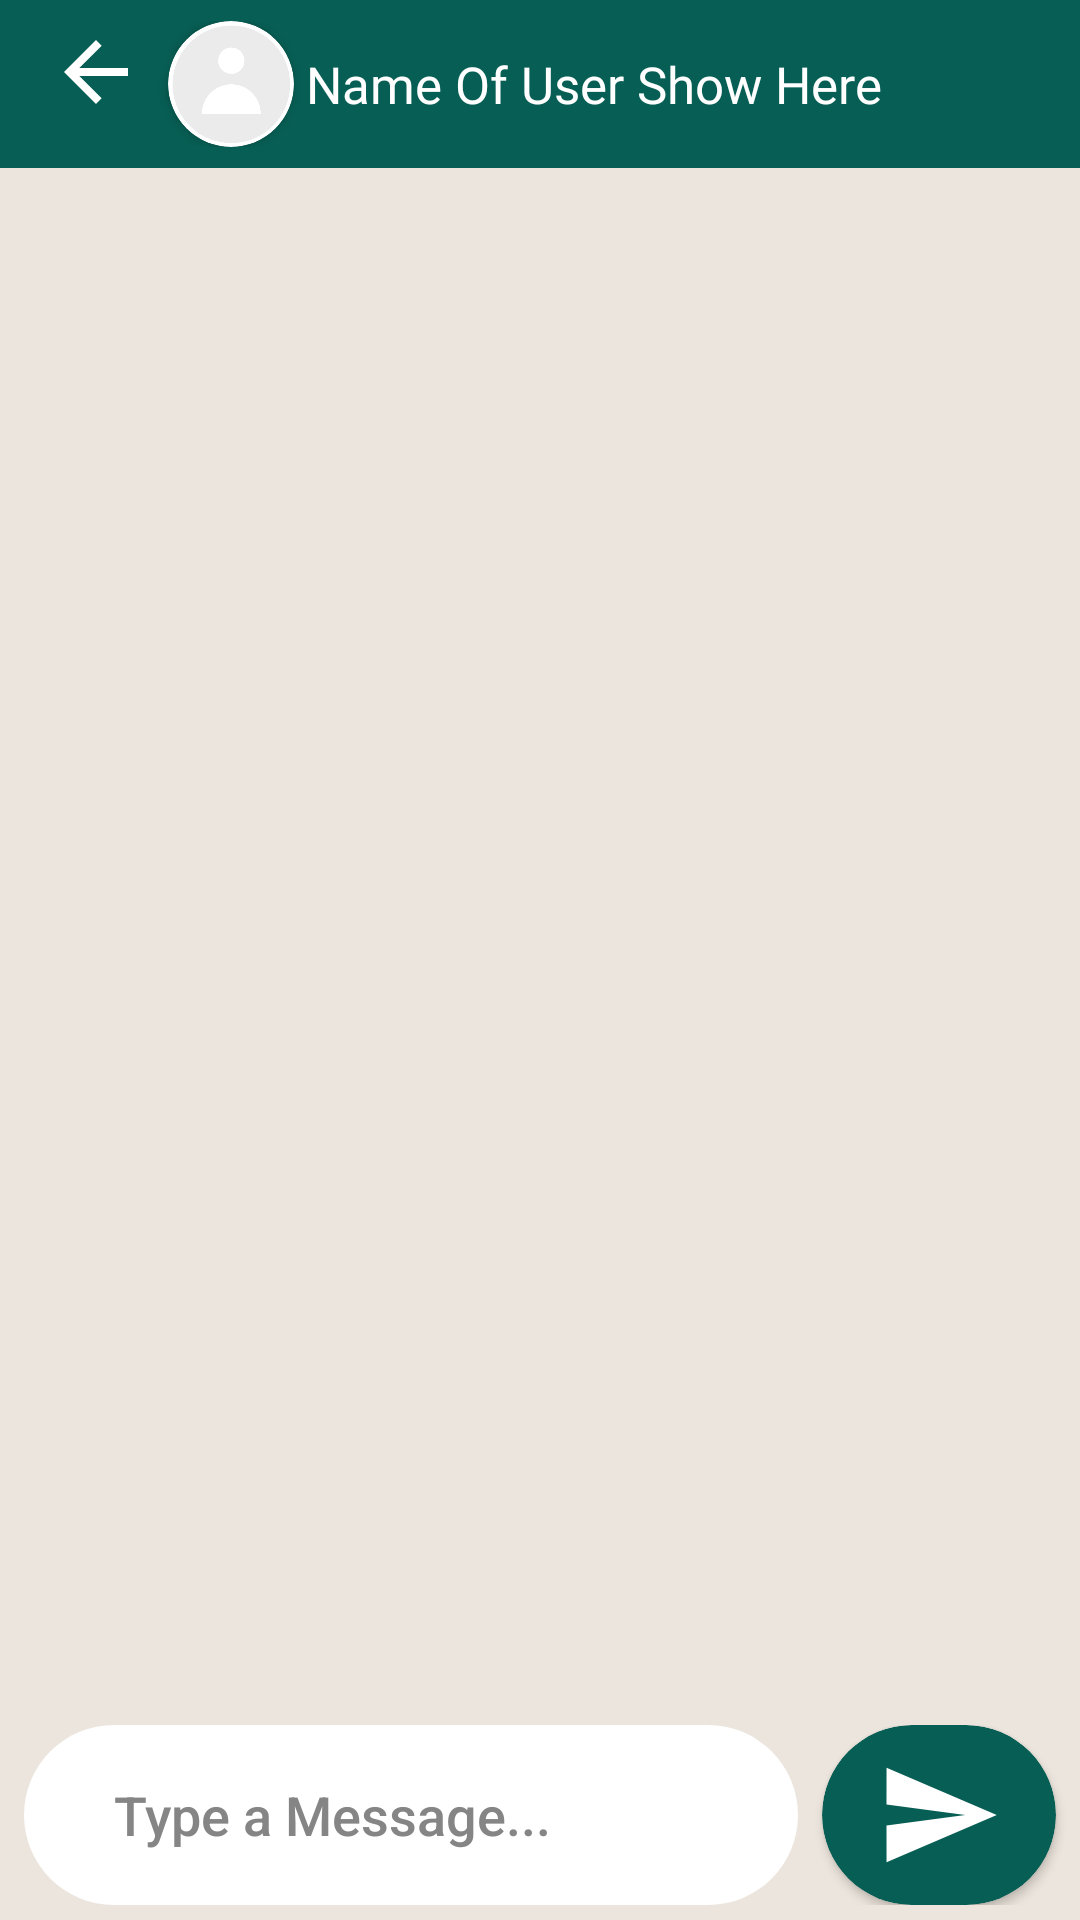

Named icons in this screenshot (1080px x 1920px) and their centers, [x,y]:
arrow back: [96,72]
defaultprofilepic: [231,84]
send: [939,1815]
